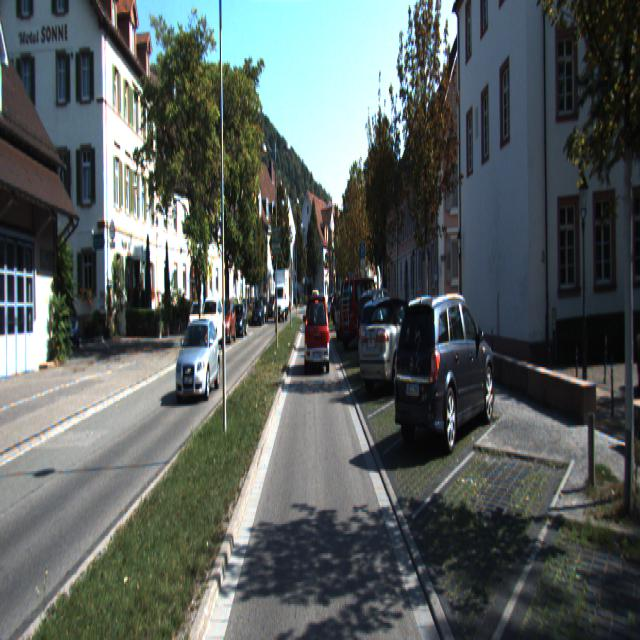Car: (392, 288, 497, 457), (358, 296, 428, 395), (357, 296, 414, 380), (356, 286, 406, 364), (175, 318, 221, 402), (338, 276, 383, 350), (306, 296, 330, 376), (335, 296, 370, 342), (198, 297, 226, 352), (216, 300, 237, 346), (60, 305, 80, 349), (273, 272, 290, 322), (188, 300, 205, 340), (251, 300, 265, 328)
